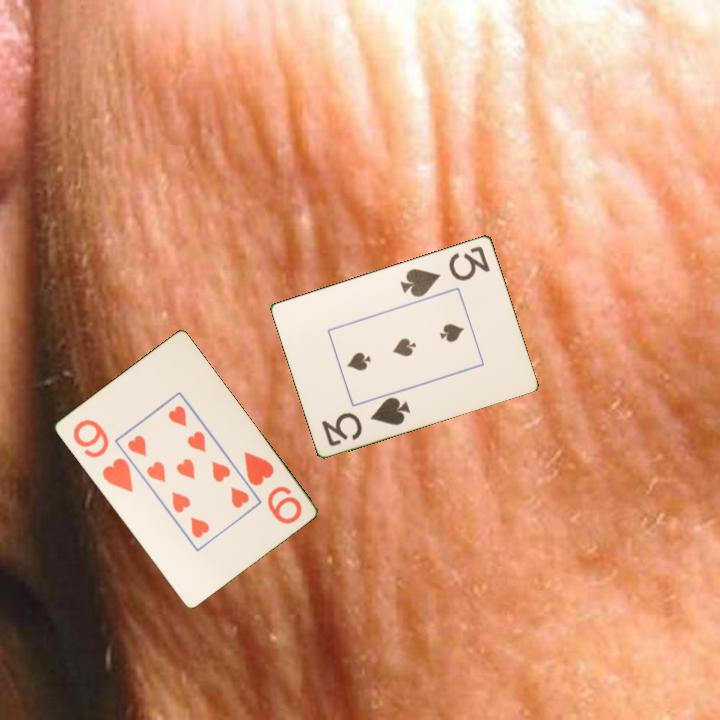3s: (397, 242, 493, 300), (318, 393, 413, 449)
9h: (69, 415, 136, 495), (240, 448, 305, 527)
